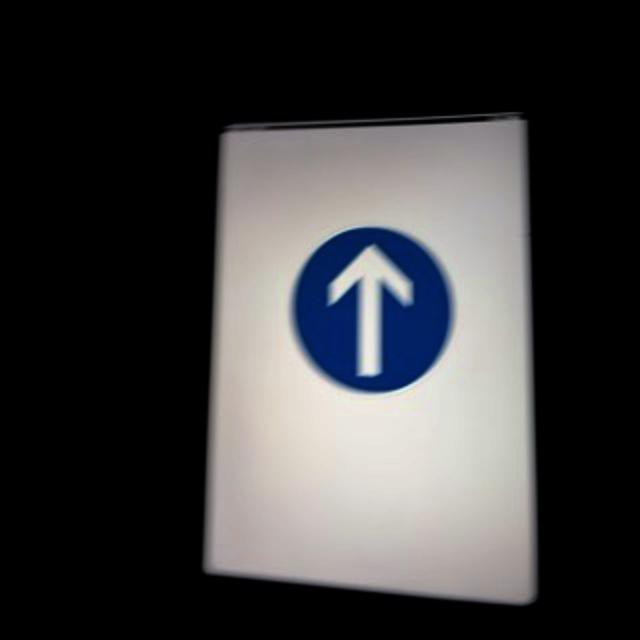GO FORWARD: (294, 228, 450, 388)
